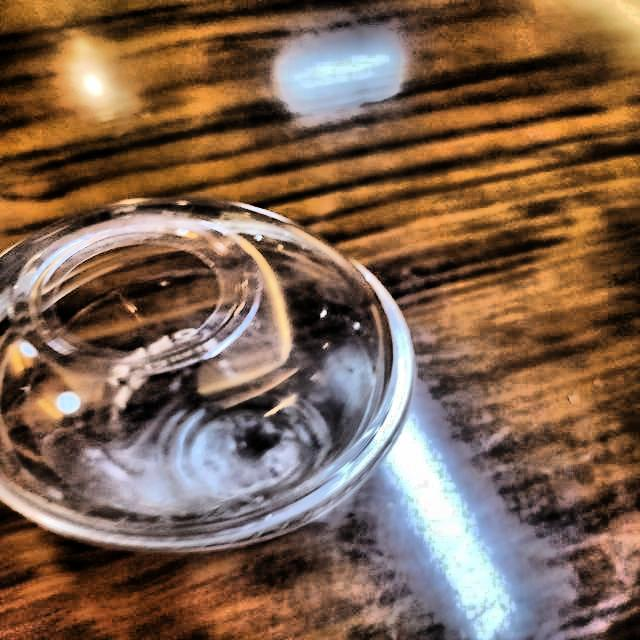plastic cup: (0, 183, 447, 588)
